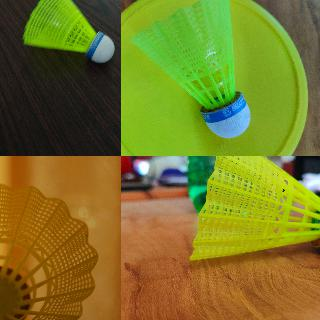shuttlecock: (130, 0, 251, 139), (188, 156, 319, 260), (0, 183, 98, 319), (23, 0, 116, 63)
